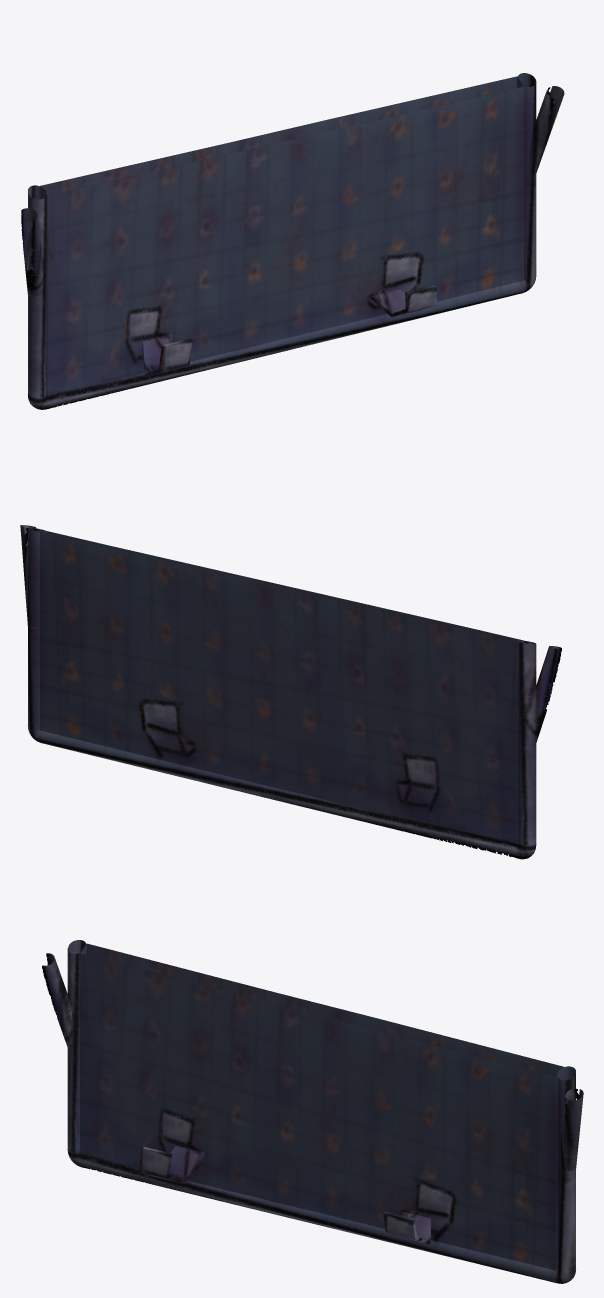
The model's file is InventoryTop.fbx.
3 renders of one model, top to bottom at view 1: azimuth 30°, elevation 25°; view 2: azimuth 150°, elevation 25°; view 3: azimuth 330°, elevation 25°, orthographic.
Visible parts, largest first — view 1: InventoryTop; view 2: InventoryTop; view 3: InventoryTop.
Part boxes in pixels (x1,y1,x2,y2): InventoryTop: (21, 73, 564, 409); InventoryTop: (20, 525, 561, 859); InventoryTop: (42, 940, 583, 1283).
Size of the model in its own units: 165 by 77.33 by 18.42.
